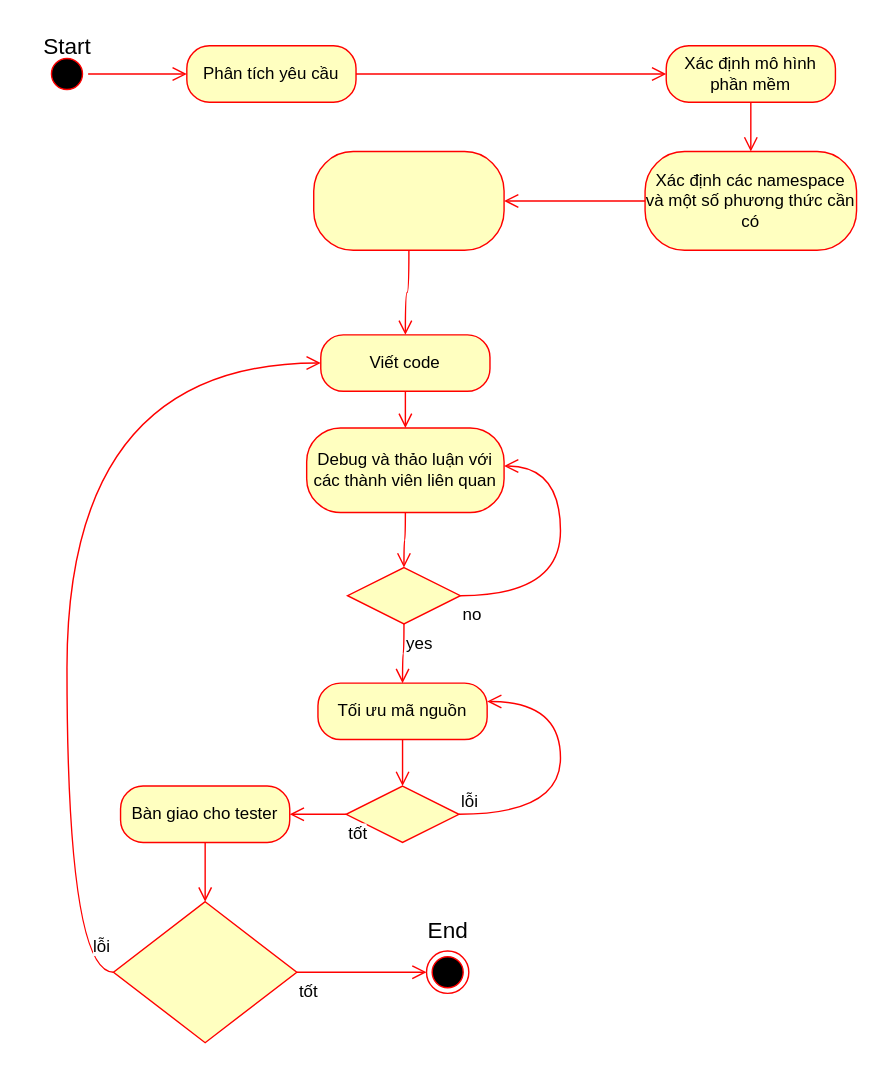
This 881x1067 diagram has some shape labels left out. The box of each missing label's shape, as (x1, y1, x2, y2) in pixels:
Debug: (345, 785, 459, 842)
Hợp logic: (346, 566, 460, 624)
Tester kiểm thử phần mềm: (112, 900, 297, 1043)
Xem công nghệ trong framwork có thể sử dụng: (312, 150, 504, 250)
